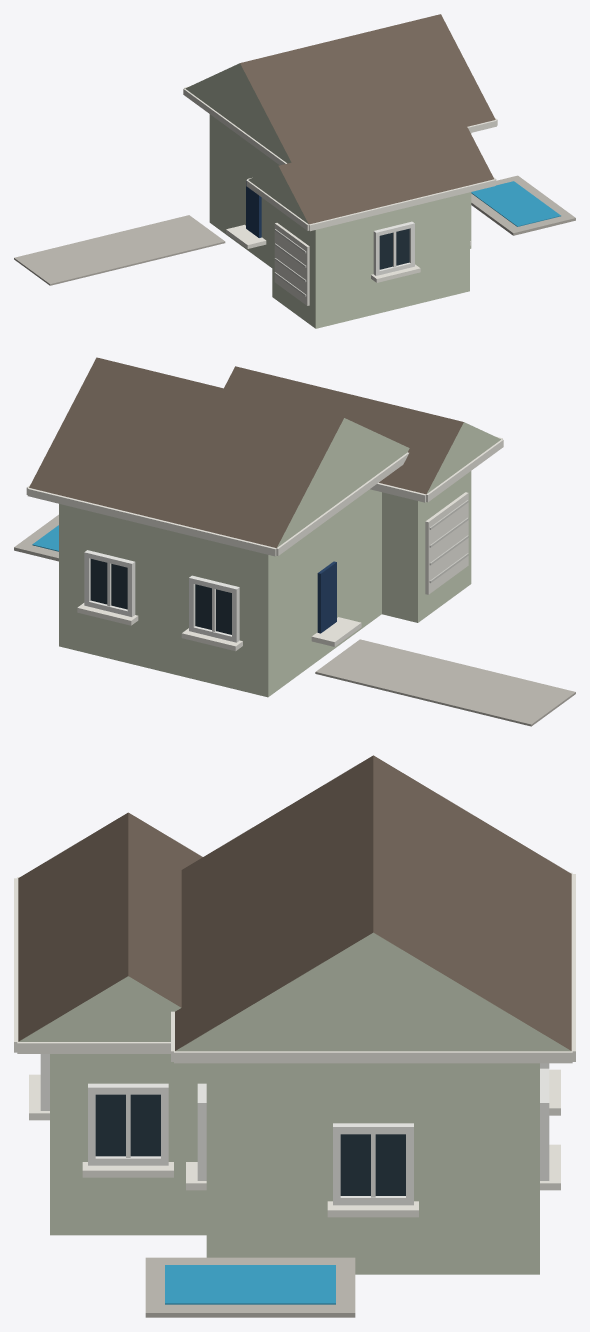
3 views of the same model, one above another, from view 1: azimuth 30°, elevation 25°; view 2: azimuth 150°, elevation 25°; view 3: azimuth 270°, elevation 25° (orthographic). The views are drawn at different scales.
Parts seen in each view (by area): view 1: b8241; view 2: b8241; view 3: b8241.
Part boxes in pixels (x1,y1,x2,y2): b8241: [14, 14, 575, 328]; b8241: [14, 357, 575, 726]; b8241: [14, 755, 575, 1317].
Bounding box in the file's own units: 7380 × 3007 × 4303.
